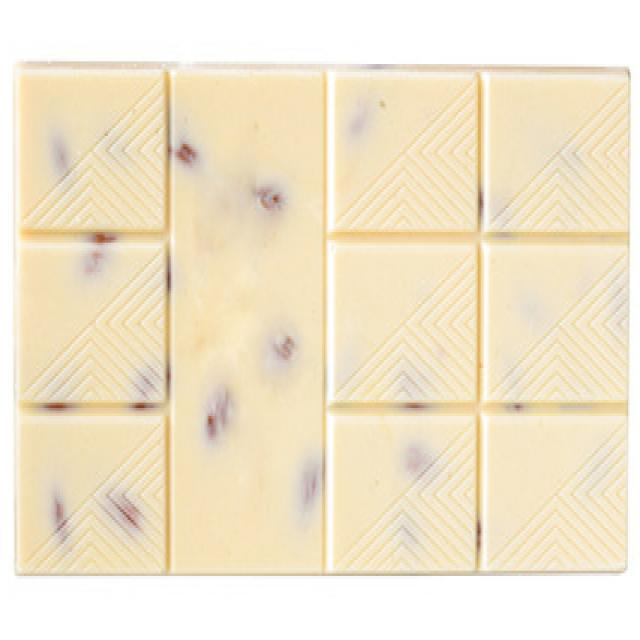Chocolate: (13, 55, 628, 576)
